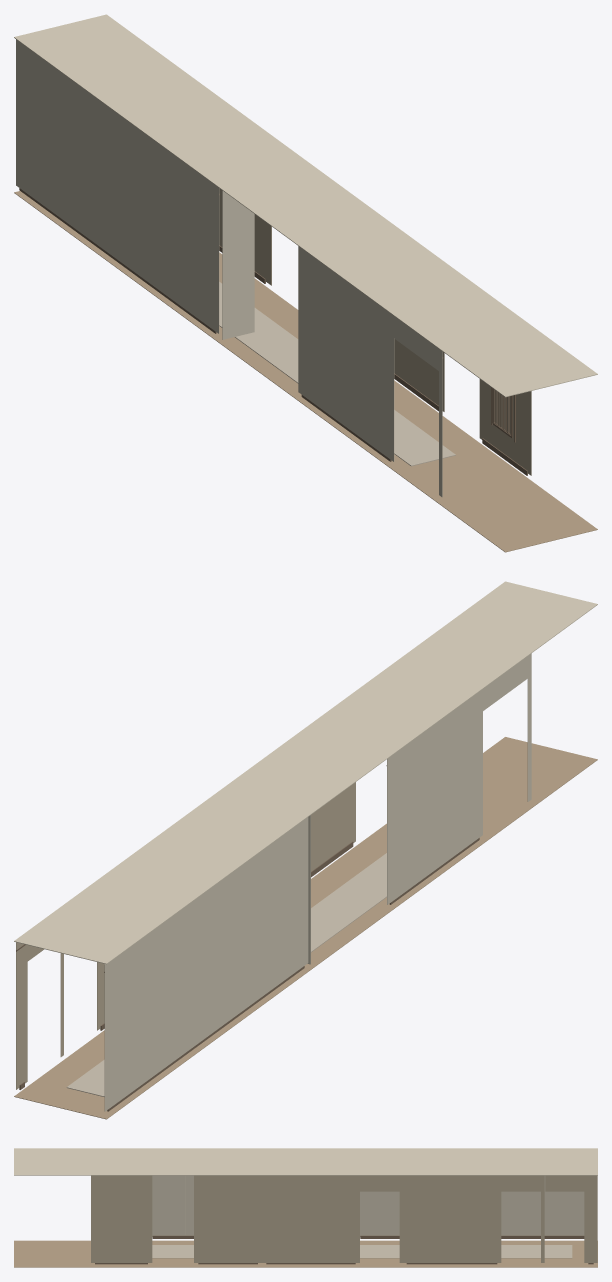
The model's file is corridor-3.glb.
3 renders of one model, top to bottom at view 1: azimuth 30°, elevation 25°; view 2: azimuth 150°, elevation 25°; view 3: azimuth 270°, elevation 25°, orthographic. The views are drawn at different scales.
Visible parts, largest first — view 1: DESIGN | Entrance coordinated ceiling, DESIGN | Entrance paired wall finish, DESIGN | Entrance floor finish, DESIGN | Entrance paired wall finish.003, DESIGN | Arch approach finish, DESIGN | Entrance quiet runner, DESIGN | Entrance paired wall finish.013, DESIGN | Entrance paired wall finish.012, DESIGN | Entrance paired wall finish.006, DESIGN | Entrance paired wall finish.002, DESIGN | Kumiko | A single fine screen in a pale threshold; view 2: DESIGN | Entrance coordinated ceiling, DESIGN | Entrance paired wall finish, DESIGN | Entrance floor finish, DESIGN | Entrance paired wall finish.003, DESIGN | Entrance quiet runner, DESIGN | Entrance paired wall finish.012, DESIGN | Entrance paired wall finish.005, DESIGN | Entrance paired wall finish.002, DESIGN | Entrance paired wall finish.001; view 3: DESIGN | Entrance coordinated ceiling, DESIGN | Entrance paired wall finish.006, DESIGN | Entrance paired wall finish.009, DESIGN | Entrance floor finish, DESIGN | Entrance paired wall finish.012, DESIGN | Entrance paired wall finish, DESIGN | Entrance paired wall finish.013, DESIGN | Entrance paired wall finish.003, DESIGN | Entrance quiet runner, DESIGN | Entrance paired wall finish.005, DESIGN | Entrance paired wall finish.007, DESIGN | Entrance paired wall finish.010 (+5 smaller).
Part boxes in pixels (box(x1,y1,x2,y2)): DESIGN | Entrance coordinated ceiling: box(14, 14, 597, 397); DESIGN | Entrance paired wall finish: box(16, 39, 219, 333); DESIGN | Entrance floor finish: box(14, 191, 597, 552); DESIGN | Entrance paired wall finish.003: box(298, 246, 394, 461); DESIGN | Arch approach finish: box(222, 190, 254, 339); DESIGN | Entrance quiet runner: box(219, 282, 455, 466); DESIGN | Entrance paired wall finish.013: box(479, 379, 531, 475); DESIGN | Entrance paired wall finish.012: box(394, 339, 444, 411); DESIGN | Entrance paired wall finish.006: box(219, 188, 268, 283); DESIGN | Entrance paired wall finish.002: box(394, 316, 438, 370); DESIGN | Kumiko | A single fine screen in a pale threshold: box(492, 388, 512, 437); DESIGN | Entrance coordinated ceiling: box(14, 581, 597, 964); DESIGN | Entrance paired wall finish: box(104, 817, 308, 1111); DESIGN | Entrance floor finish: box(14, 737, 597, 1119); DESIGN | Entrance paired wall finish.003: box(387, 689, 482, 904); DESIGN | Entrance quiet runner: box(66, 853, 386, 1096); DESIGN | Entrance paired wall finish.012: box(311, 782, 355, 871); DESIGN | Entrance paired wall finish.005: box(16, 942, 27, 1089); DESIGN | Entrance paired wall finish.002: box(483, 656, 527, 710); DESIGN | Entrance paired wall finish.001: box(527, 653, 531, 801); DESIGN | Entrance coordinated ceiling: box(14, 1148, 597, 1175); DESIGN | Entrance paired wall finish.006: box(402, 1175, 501, 1262); DESIGN | Entrance paired wall finish.009: box(262, 1175, 359, 1262); DESIGN | Entrance floor finish: box(14, 1240, 597, 1267); DESIGN | Entrance paired wall finish.012: box(194, 1175, 262, 1262); DESIGN | Entrance paired wall finish: box(360, 1176, 584, 1236); DESIGN | Entrance paired wall finish.013: box(91, 1175, 152, 1262); DESIGN | Entrance paired wall finish.003: box(152, 1175, 193, 1236); DESIGN | Entrance quiet runner: box(152, 1245, 572, 1258); DESIGN | Entrance paired wall finish.005: box(584, 1175, 597, 1262); DESIGN | Entrance paired wall finish.007: box(501, 1175, 540, 1191); DESIGN | Entrance paired wall finish.010: box(360, 1175, 399, 1191).
Size of the model in its own units: 1.7 by 2.73 by 15.61.
